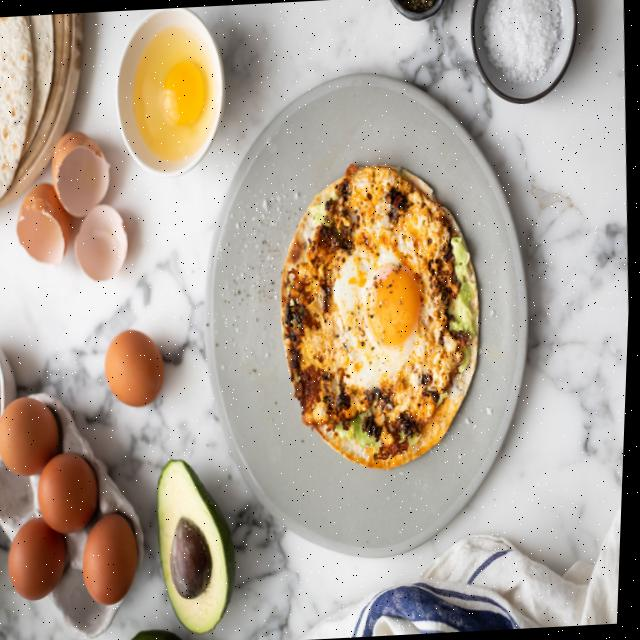Egg: (284, 164, 481, 468)
